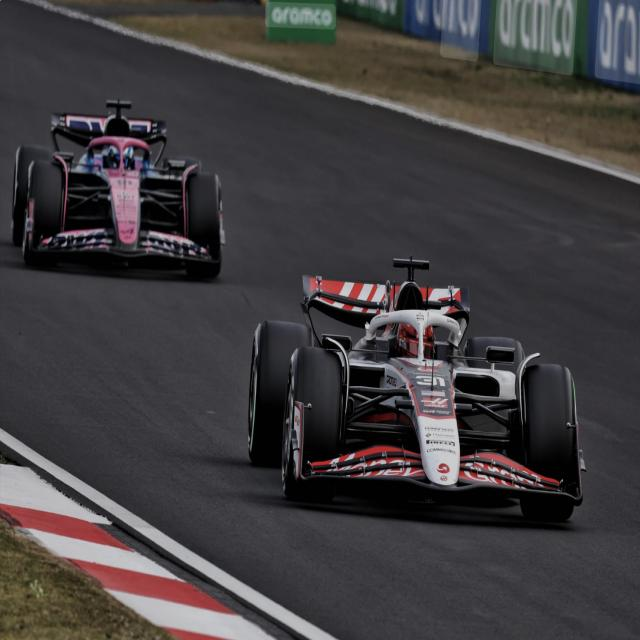Alpine: (12, 97, 225, 285)
Haas: (249, 255, 584, 534)
